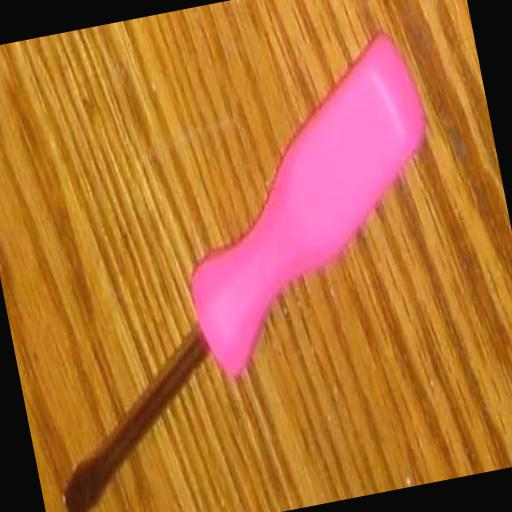screwdriver: (0, 26, 493, 512)
